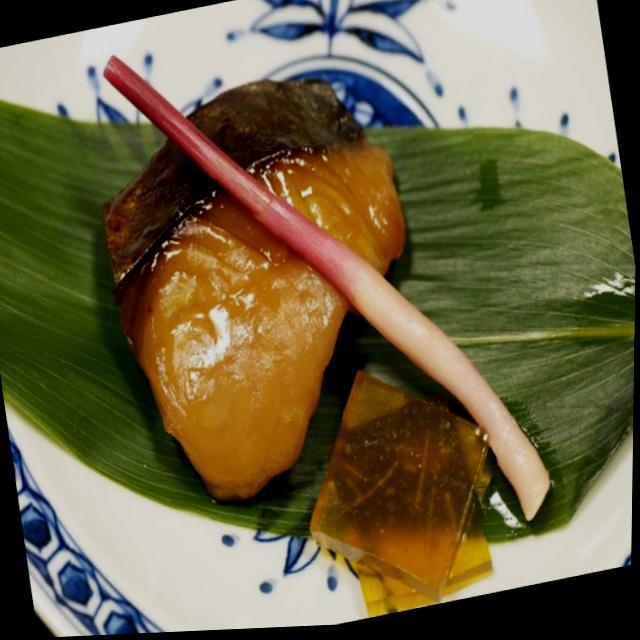熟制海鲜: (38, 0, 466, 538)
